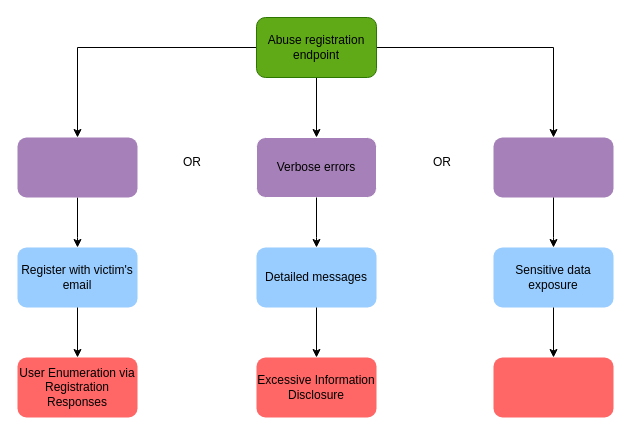
Image size: 630x435. Some labels were removed from this diagram. The shapes that lost their labels are listed below. From the top down, each one's box as (x1, y1, x2, y2) in pixels, then its label:
(17, 137, 137, 197): Email enumeration
(493, 137, 613, 197): Insecure logging
(493, 357, 613, 417): Sensitive Data Exposure through Improper Logging
